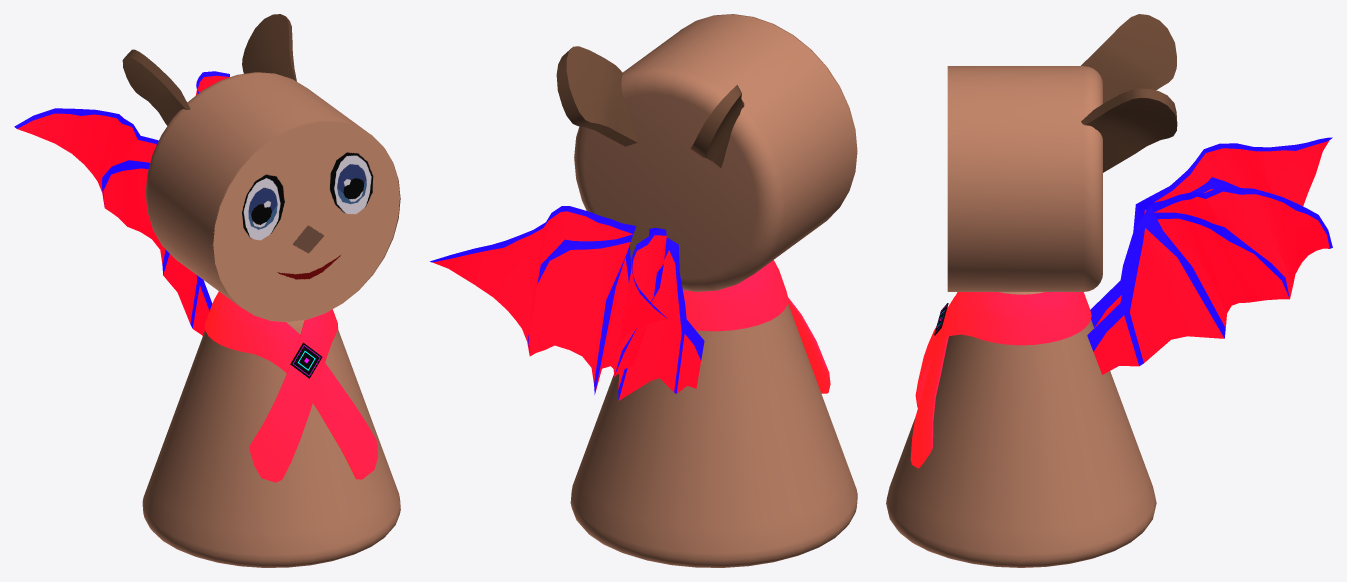
File: man.glb
The picture shows the model from 3 angles, left to right: view 1: azimuth 30°, elevation 25°; view 2: azimuth 150°, elevation 25°; view 3: azimuth 270°, elevation 25°; orthographic projection. The views are drawn at different scales.
Visible parts, largest first — view 1: sarir_primitive0, sarir_primitive4, sarir_primitive5, sarir_primitive2, sarir_primitive1, sarir_primitive3, sarir_primitive6; view 2: sarir_primitive0, sarir_primitive2, sarir_primitive1, sarir_primitive5, sarir_primitive3; view 3: sarir_primitive0, sarir_primitive2, sarir_primitive1, sarir_primitive5, sarir_primitive3.
Boxes of the visible parts, x1=… form: sarir_primitive0: x1=142, y1=72, x2=400, y2=567; sarir_primitive4: x1=212, y1=120, x2=399, y2=321; sarir_primitive5: x1=204, y1=291, x2=377, y2=482; sarir_primitive2: x1=17, y1=75, x2=229, y2=335; sarir_primitive1: x1=122, y1=14, x2=296, y2=125; sarir_primitive3: x1=14, y1=71, x2=229, y2=328; sarir_primitive6: x1=290, y1=342, x2=322, y2=378; sarir_primitive0: x1=570, y1=14, x2=857, y2=567; sarir_primitive2: x1=432, y1=211, x2=700, y2=400; sarir_primitive1: x1=556, y1=46, x2=744, y2=167; sarir_primitive5: x1=683, y1=260, x2=830, y2=393; sarir_primitive3: x1=430, y1=206, x2=704, y2=399; sarir_primitive0: x1=886, y1=66, x2=1156, y2=567; sarir_primitive2: x1=1093, y1=140, x2=1329, y2=374; sarir_primitive1: x1=1081, y1=14, x2=1177, y2=172; sarir_primitive5: x1=910, y1=292, x2=1091, y2=468; sarir_primitive3: x1=1087, y1=137, x2=1332, y2=366.
Bounding box in the file's own units: 0.8967 × 1.69 × 1.48.
10 materials, 1 textured.
